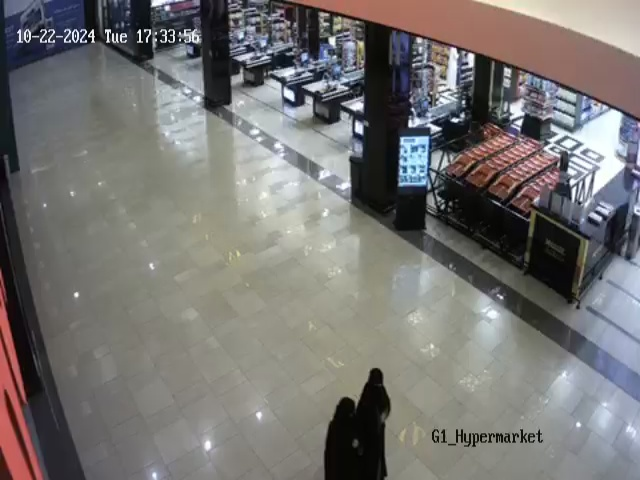female: (356, 365, 394, 477), (320, 392, 359, 477)
